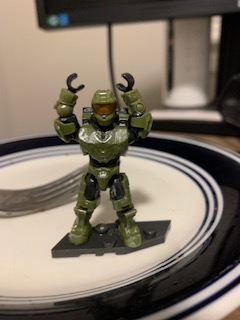chief: (52, 72, 154, 248)
spartan: (50, 70, 152, 246)
up: (53, 71, 153, 165)
